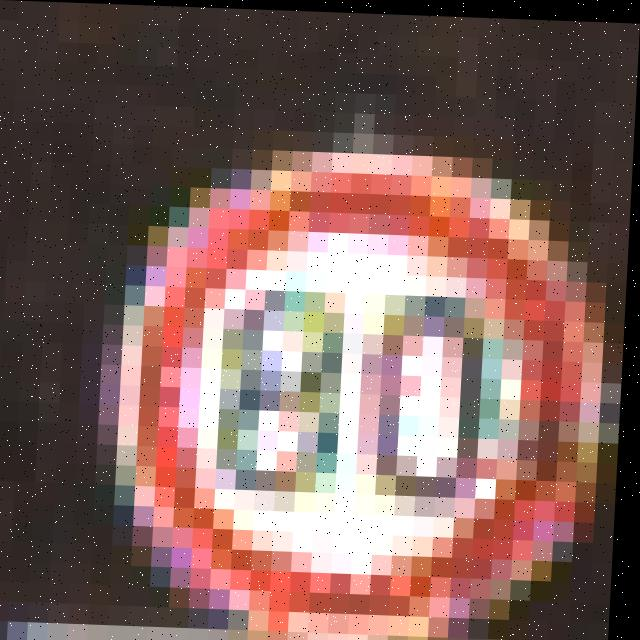speed_limit_80: (123, 180, 617, 640)
